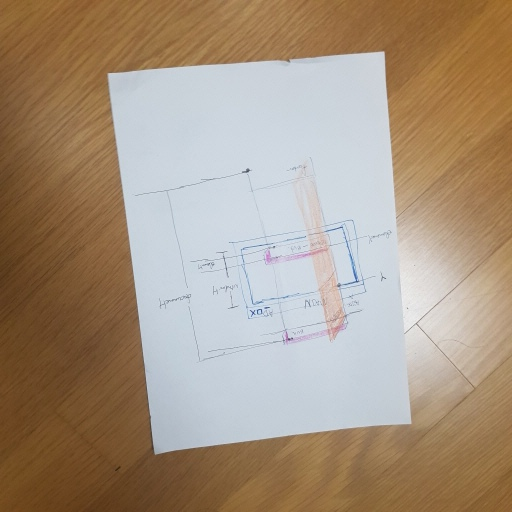Paper_2: (95, 48, 429, 447)
